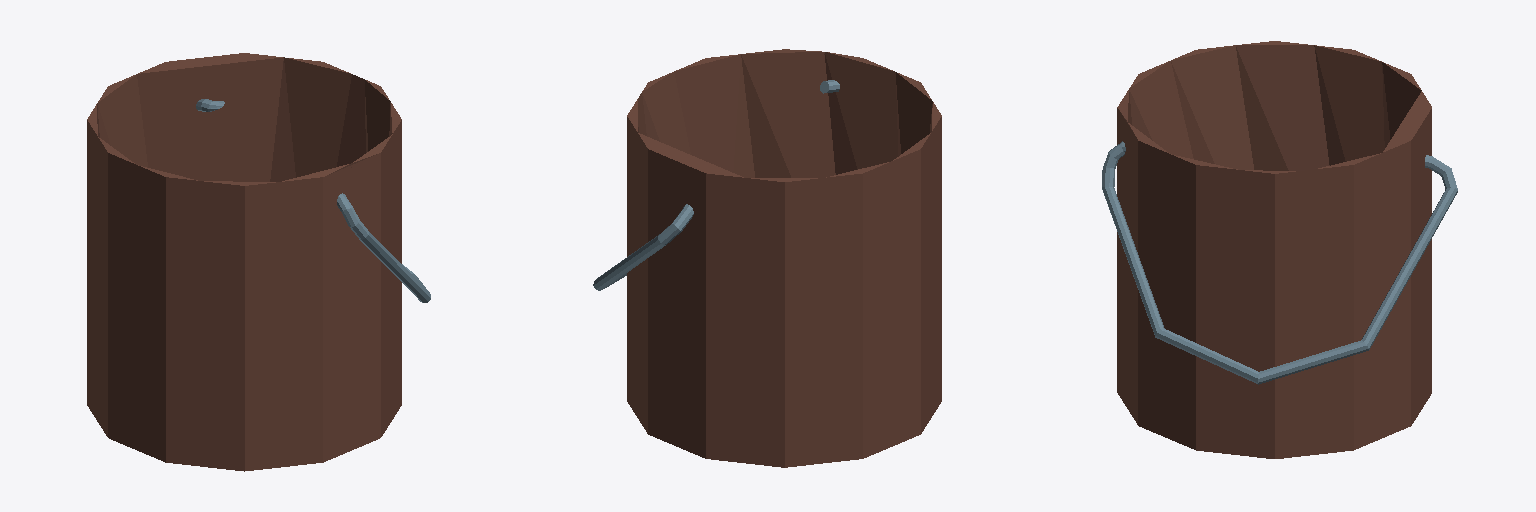
File: model-triangulated.obj
3 views of the same model, side by side, from view 1: azimuth 30°, elevation 25°; view 2: azimuth 150°, elevation 25°; view 3: azimuth 270°, elevation 25° (orthographic).
Visible parts, largest first — view 1: group[number redacted], group[number redacted]; view 2: group[number redacted], group[number redacted]; view 3: group[number redacted], group[number redacted].
Boxes of the visible parts, <box> form: group[number redacted]: <box>87,53,401,471</box>; group[number redacted]: <box>196,99,430,302</box>; group[number redacted]: <box>627,49,941,467</box>; group[number redacted]: <box>593,80,839,290</box>; group[number redacted]: <box>1117,41,1431,458</box>; group[number redacted]: <box>1102,141,1457,384</box>.
Bounding box in the file's own units: 1.51 × 1.38 × 1.55.